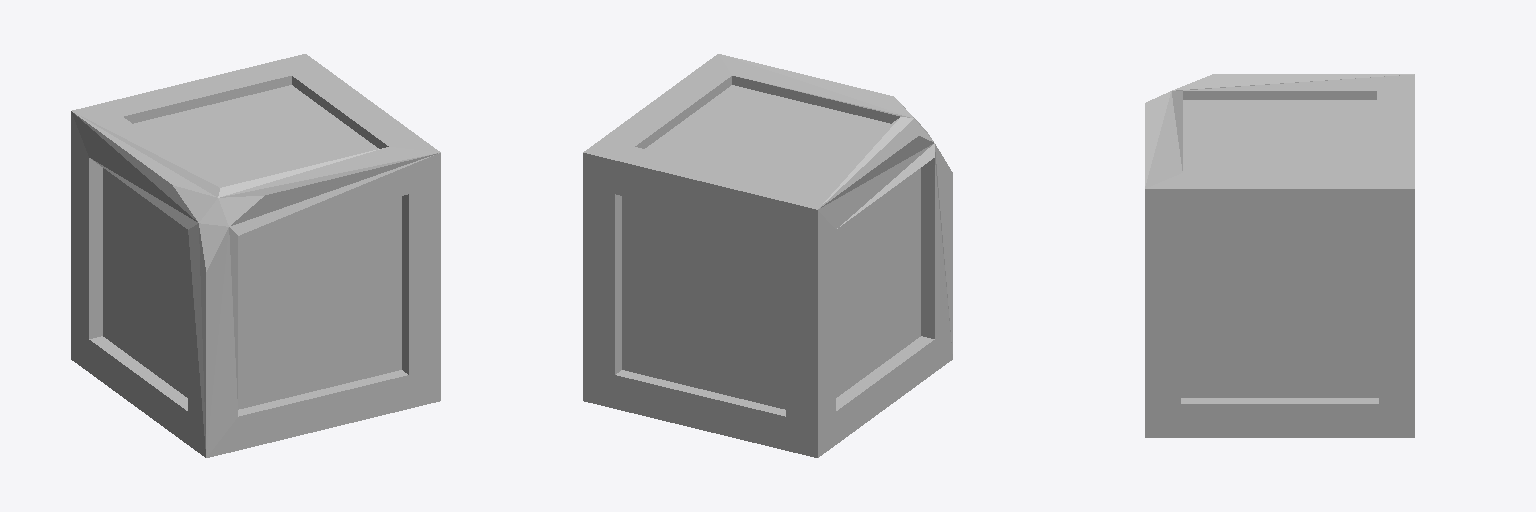
Rendered from Kiste1.obj.
3 views of the same model, side by side, from view 1: azimuth 30°, elevation 25°; view 2: azimuth 150°, elevation 25°; view 3: azimuth 270°, elevation 25° (orthographic).
Parts seen in each view (by area): view 1: polySurface3; view 2: polySurface3; view 3: polySurface3.
Boxes of the visible parts, <box> form: polySurface3: <box>71,54,440,457</box>; polySurface3: <box>583,54,952,457</box>; polySurface3: <box>1145,74,1414,437</box>.
Size of the model in its own units: 7.22 by 7.31 by 7.21.